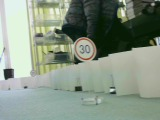speed_30: (72, 36, 98, 63)
